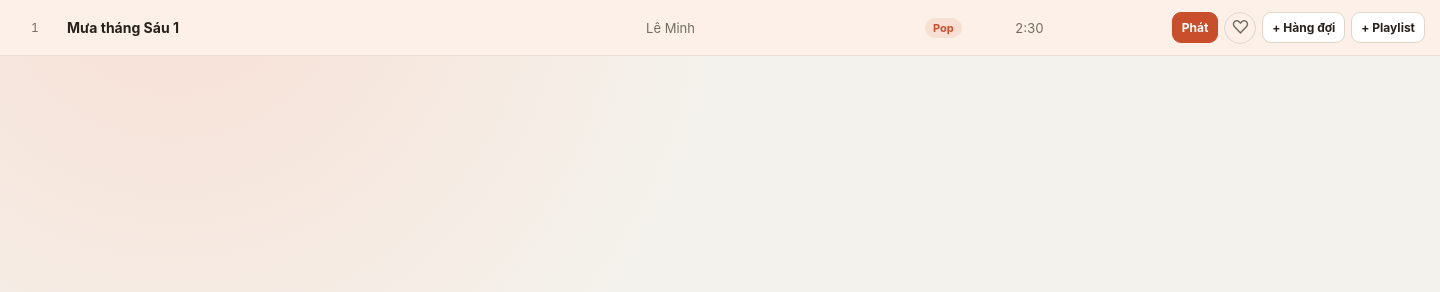
SongRow › đổi trạng thái yêu thích và aria-label của nút tim
Expected: the text "Mưa tháng Sáu 1" is shown, [67,19,179,36]
Click the button named "Thêm vào yêu thích".
click(1240, 28)  # box [1224,12,1256,44]
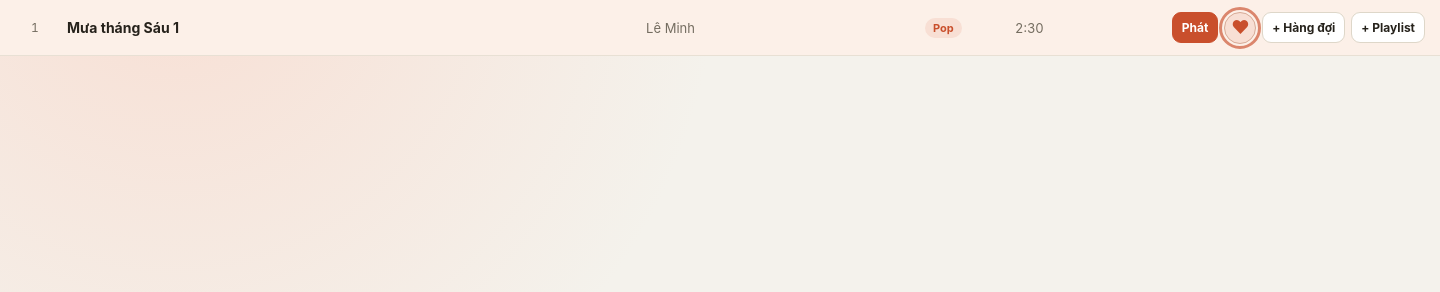
Expected: the button named "Bỏ yêu thích" is shown, [1224,12,1256,44]
